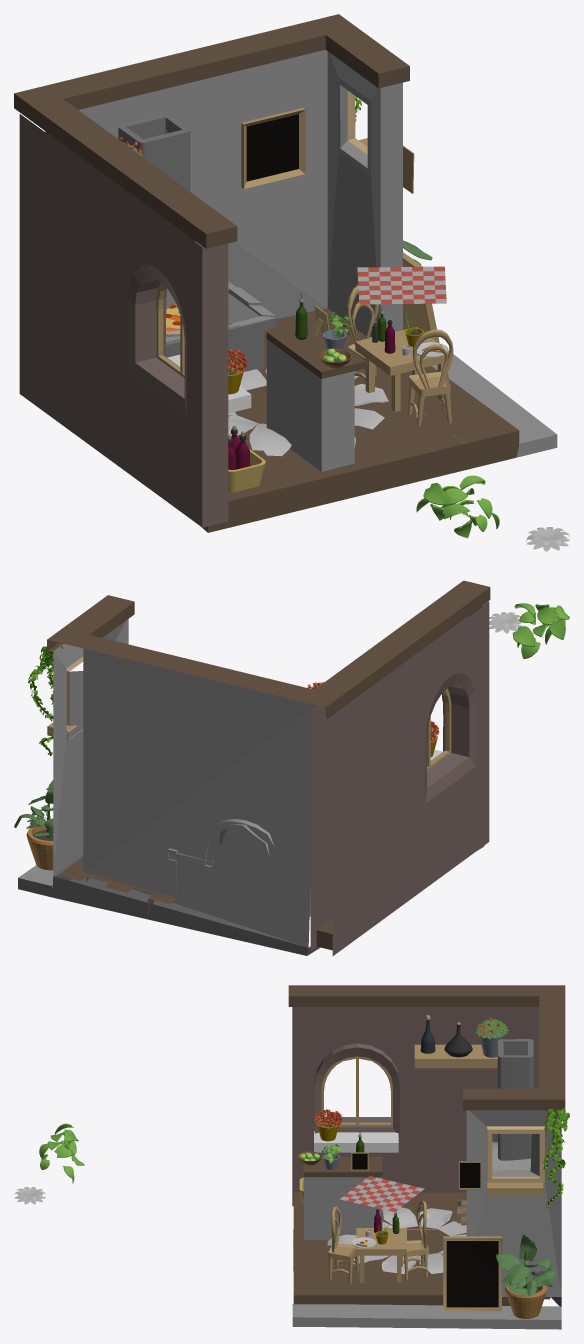
Rendered from PizzaSceneFBX.fbx.
3 renders of one model, top to bottom at view 1: azimuth 30°, elevation 25°; view 2: azimuth 150°, elevation 25°; view 3: azimuth 270°, elevation 25°, orthographic. The views are drawn at different scales.
Parts seen in each view (by area): view 1: Room_Base, ArchwayWall, Counter (×2), PictureFrame_WB, Pizza_Oven, pPlane4, pCylinder12, TableTop, Wood_FloorPlank11, Wood_FloorPlank22, Wood_FloorPlank70, Wood_FloorPlank12 (+13 smaller); view 2: Room_Base, ArchwayWall, PlantPot_Porch, WindowFrame, Pizza_Oven; view 3: Room_Base, ArchwayWall, Counter, Porch_Menu, Pizza_Oven, pPlane4, Shelf_Wall, Window_Sill_Inside, pCylinder12, pCylinder11, Wood_FloorPlank101, TableTop (+11 smaller).
Part boxes in pixels (x1,y1,x2,y2): Room_Base: [14, 14, 557, 532]; ArchwayWall: [19, 114, 228, 527]; Counter (×2): [166, 281, 366, 471]; PictureFrame_WB: [241, 108, 305, 188]; Pizza_Oven: [118, 114, 232, 325]; pPlane4: [357, 266, 446, 304]; pCylinder12: [228, 369, 385, 456]; TableTop: [355, 327, 449, 375]; Wood_FloorPlank11: [428, 409, 492, 461]; Wood_FloorPlank22: [374, 423, 438, 474]; Wood_FloorPlank70: [458, 405, 519, 455]; Wood_FloorPlank12: [404, 418, 465, 468]; Room_Base: [18, 580, 490, 955]; ArchwayWall: [310, 601, 489, 955]; PlantPot_Porch: [26, 825, 53, 870]; WindowFrame: [427, 688, 451, 769]; Pizza_Oven: [204, 818, 275, 866]; Room_Base: [288, 985, 565, 1329]; ArchwayWall: [292, 1007, 539, 1206]; Counter: [303, 1156, 382, 1239]; Porch_Menu: [443, 1236, 501, 1311]; Pizza_Oven: [492, 1039, 533, 1171]; pPlane4: [340, 1176, 424, 1211]; Shelf_Wall: [414, 1044, 497, 1068]; Window_Sill_Inside: [314, 1131, 398, 1152]; pCylinder12: [327, 1207, 466, 1273]; pCylinder11: [345, 1208, 466, 1273]; Wood_FloorPlank101: [343, 1285, 397, 1304]; TableTop: [356, 1228, 406, 1255].
Bounding box in the file's own units: 8.57 × 6.81 × 15.02.
